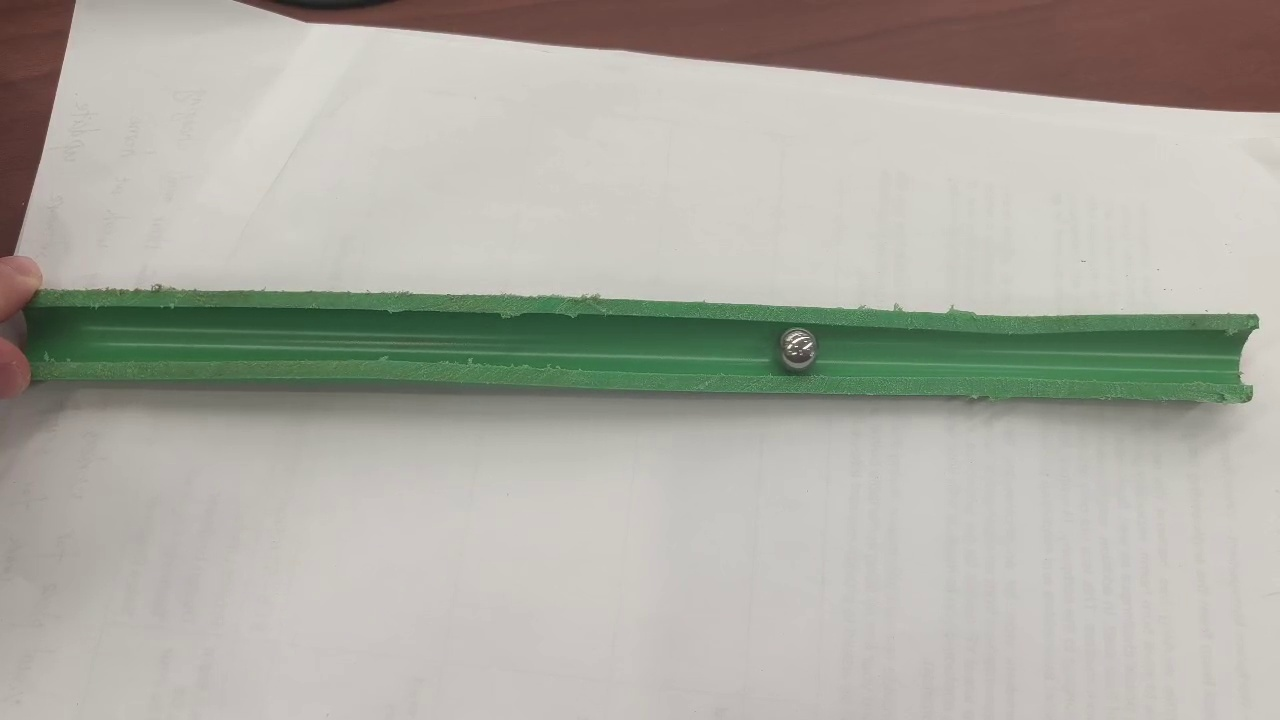ball: (781, 329, 816, 370)
